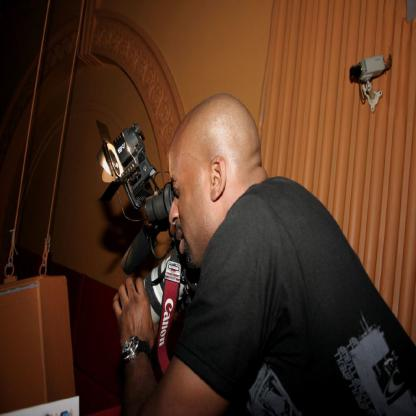Camera: (92, 129, 181, 247)
